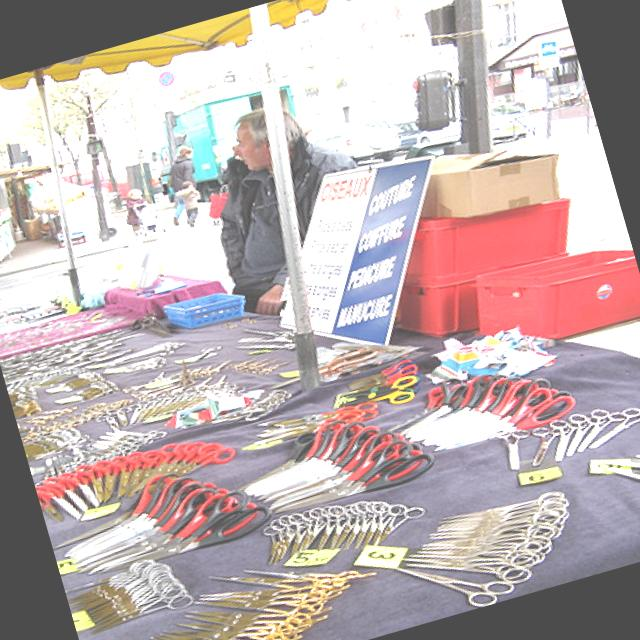Vehicle: (314, 114, 406, 180), (481, 93, 540, 148), (388, 116, 424, 152)
